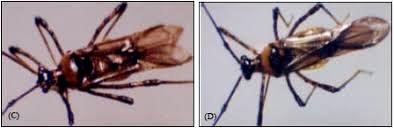Helopeltis-insect: (32, 23, 181, 97), (237, 13, 384, 88)
